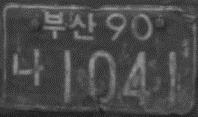0: (88, 49, 115, 103), (131, 12, 153, 40)
1: (161, 52, 184, 105), (56, 50, 78, 102)
4: (122, 50, 152, 105)
9: (106, 12, 126, 40)
나: (11, 47, 44, 87)
부산_O: (43, 10, 97, 41)
